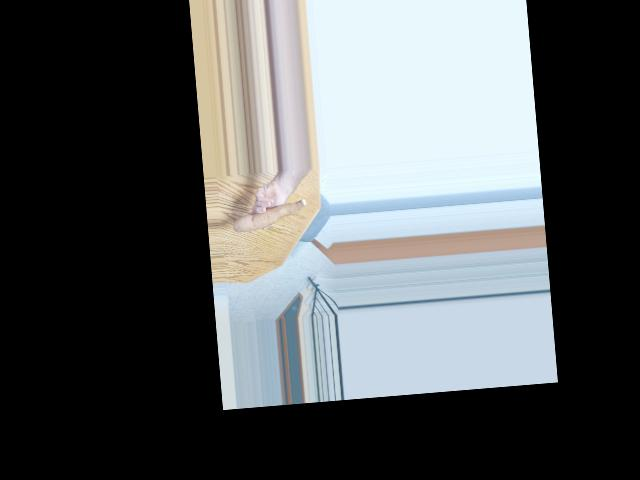sweet_potato: (234, 197, 306, 237)
